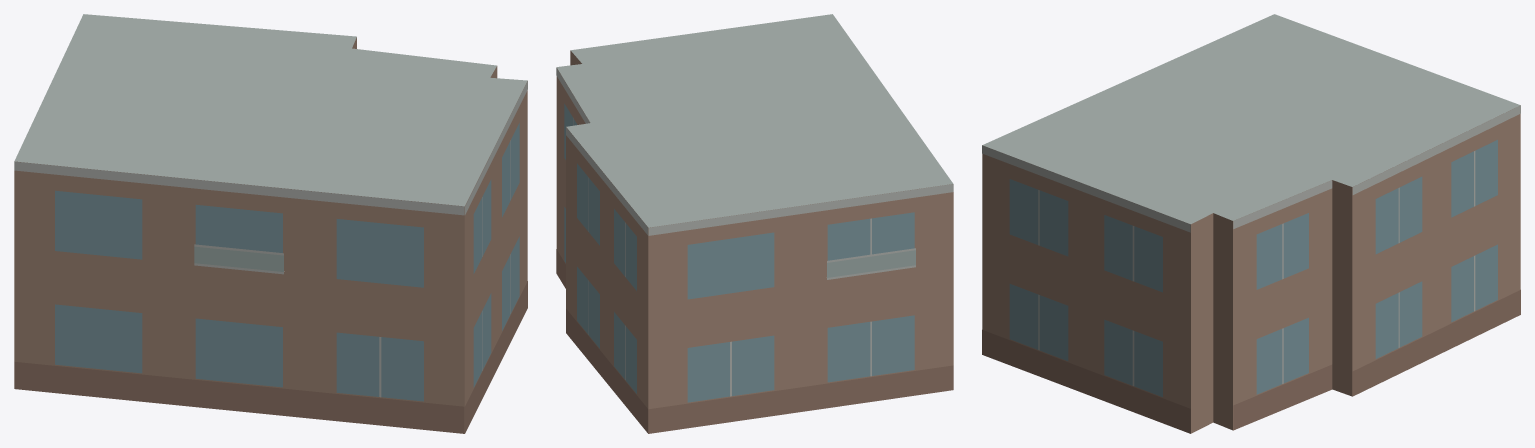
Rendered from survey-upis-32586440.glb.
The picture shows the model from 3 angles, left to right: view 1: azimuth 30°, elevation 25°; view 2: azimuth 150°, elevation 25°; view 3: azimuth 270°, elevation 25°; orthographic projection. The views are drawn at different scales.
Parts seen in each view (by area): view 1: survey-upis-32586440.tmp; view 2: survey-upis-32586440.tmp; view 3: survey-upis-32586440.tmp.
Boxes of the visible parts, x1=… form: survey-upis-32586440.tmp: x1=14, y1=14, x2=527, y2=433; survey-upis-32586440.tmp: x1=556, y1=14, x2=953, y2=433; survey-upis-32586440.tmp: x1=982, y1=14, x2=1520, y2=433.
Size of the model in its own units: 13.14 by 6.1 by 14.22.
